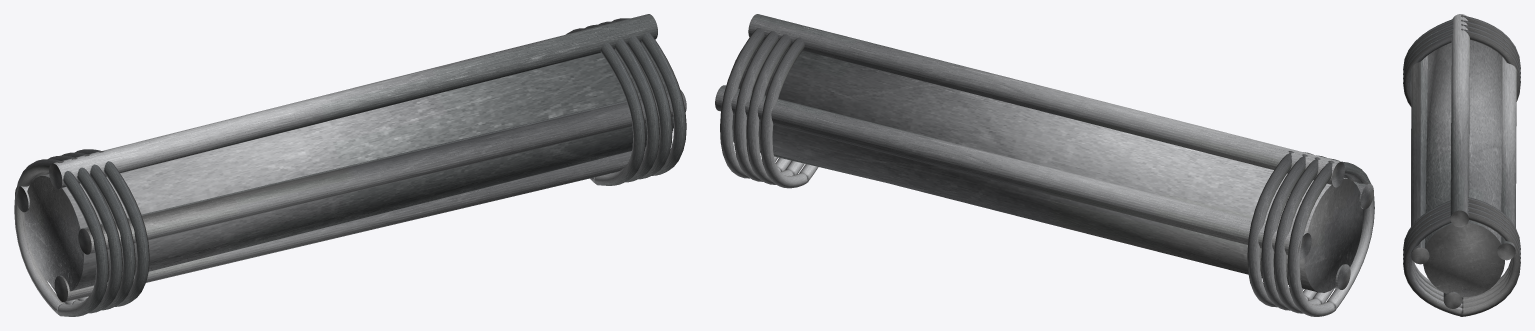
File: pieza23.fbx
3 views of the same model, side by side, from view 1: azimuth 30°, elevation 25°; view 2: azimuth 150°, elevation 25°; view 3: azimuth 270°, elevation 25° (orthographic). The views are drawn at different scales.
Visible parts, largest first — view 1: BezierCircle.007; view 2: BezierCircle.007; view 3: BezierCircle.007.
Boxes of the visible parts, box(x1,y1,x2,y2) form: BezierCircle.007: box(14, 14, 686, 316); BezierCircle.007: box(715, 14, 1374, 316); BezierCircle.007: box(1403, 14, 1520, 316).
Bounding box in the file's own units: 635 × 162 × 158.
Materials: 13 (13 with a texture image).
